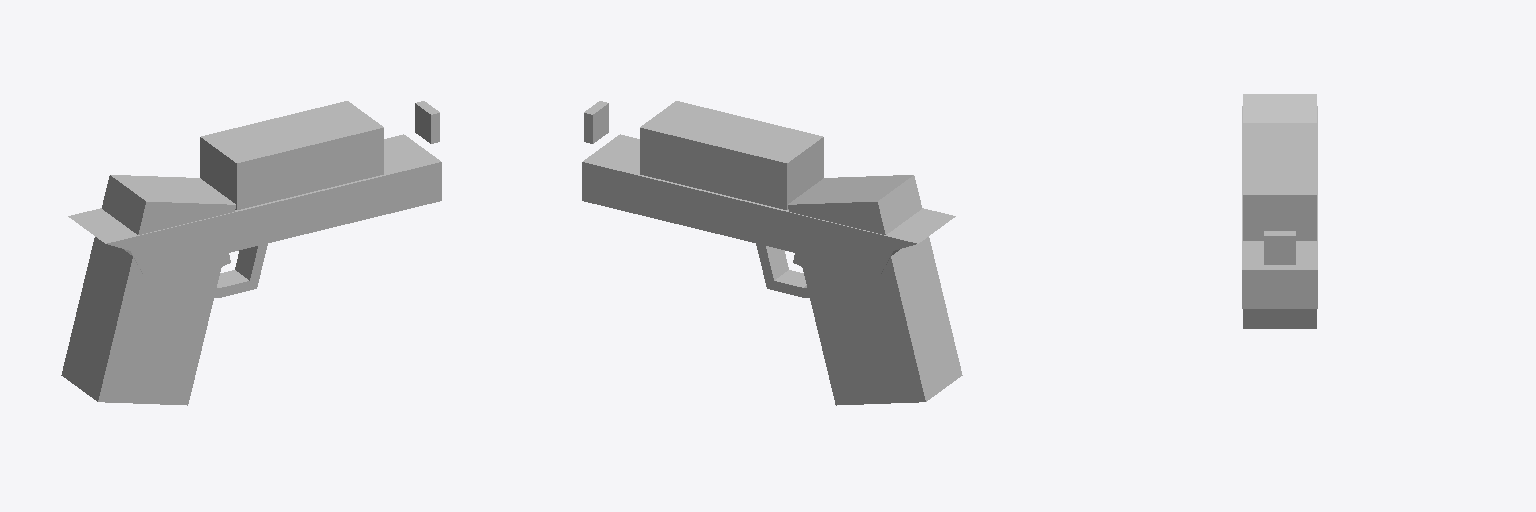
File: GunBase for real this time.obj
3 views of the same model, side by side, from view 1: azimuth 30°, elevation 25°; view 2: azimuth 150°, elevation 25°; view 3: azimuth 270°, elevation 25° (orthographic).
Visible parts, largest first — view 1: Gunbase1; view 2: Gunbase1; view 3: Gunbase1.
Boxes of the visible parts, box(x1,y1,x2,y2) form: Gunbase1: box(61, 101, 441, 405); Gunbase1: box(582, 101, 962, 405); Gunbase1: box(1242, 94, 1317, 328).
Bounding box in the file's own units: 1.89 × 1.18 × 0.35.